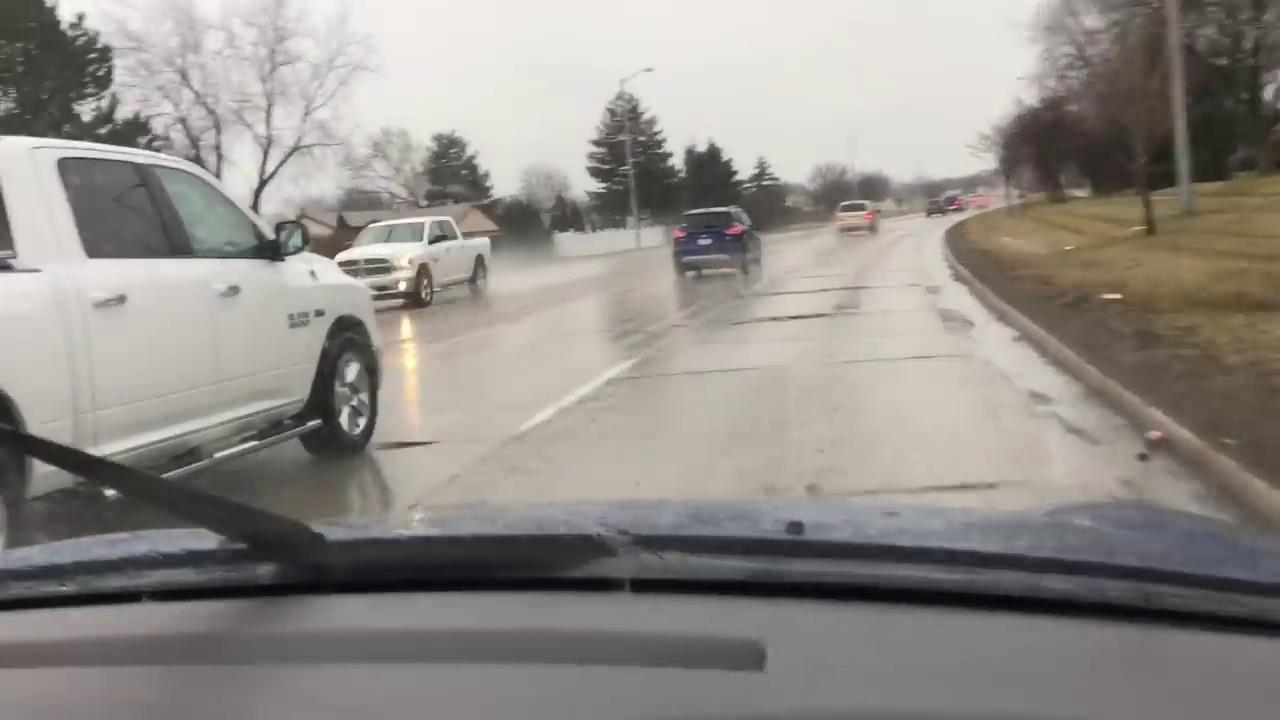pothole: (739, 309, 844, 331), (936, 305, 977, 336), (372, 439, 442, 452)
